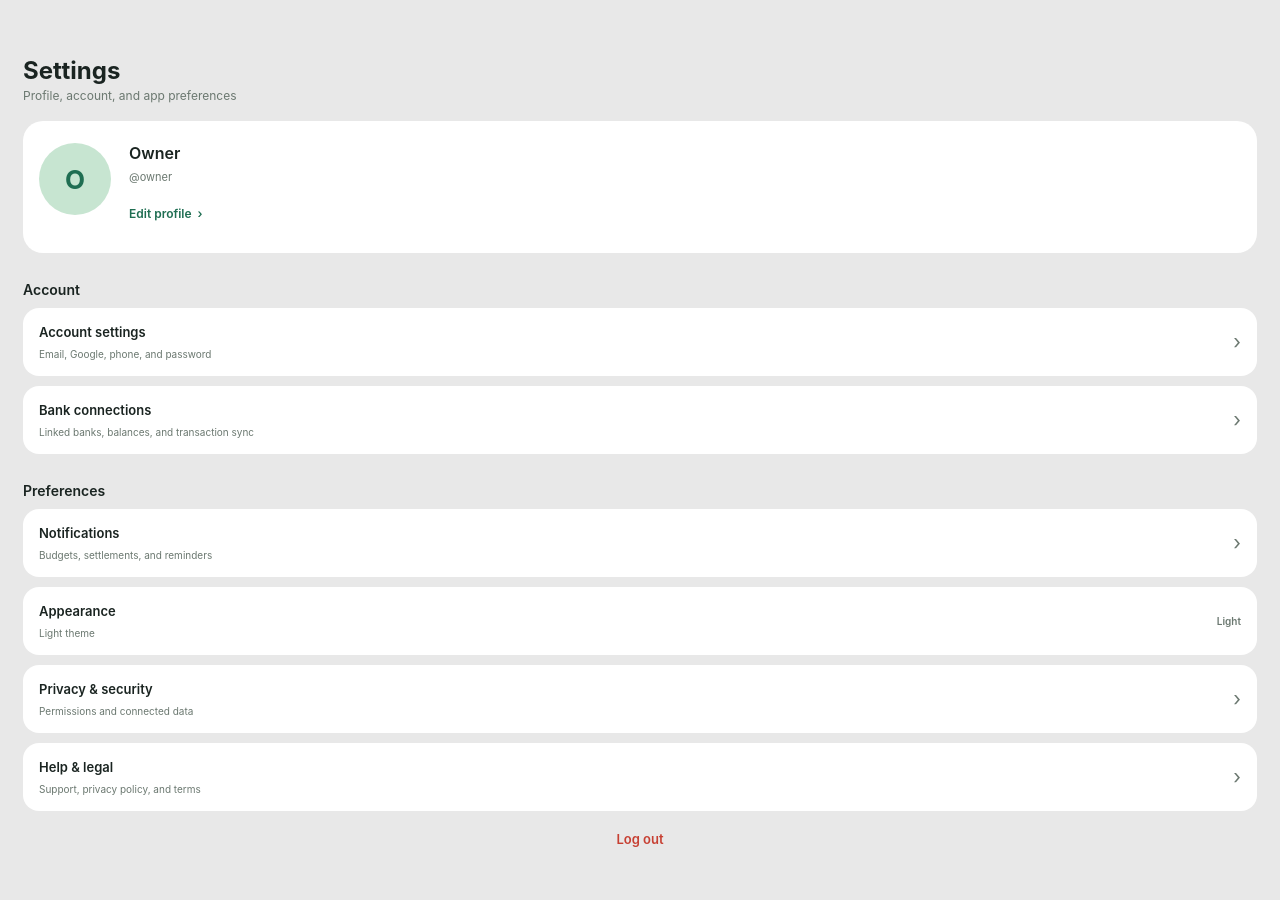
Scenario: Google popup entry points › shows the exact email mismatch returned when profile linking fails
Click the button "Account settings Email, Google, phone, and password ›" at (92,332), box [23,308,1257,376]
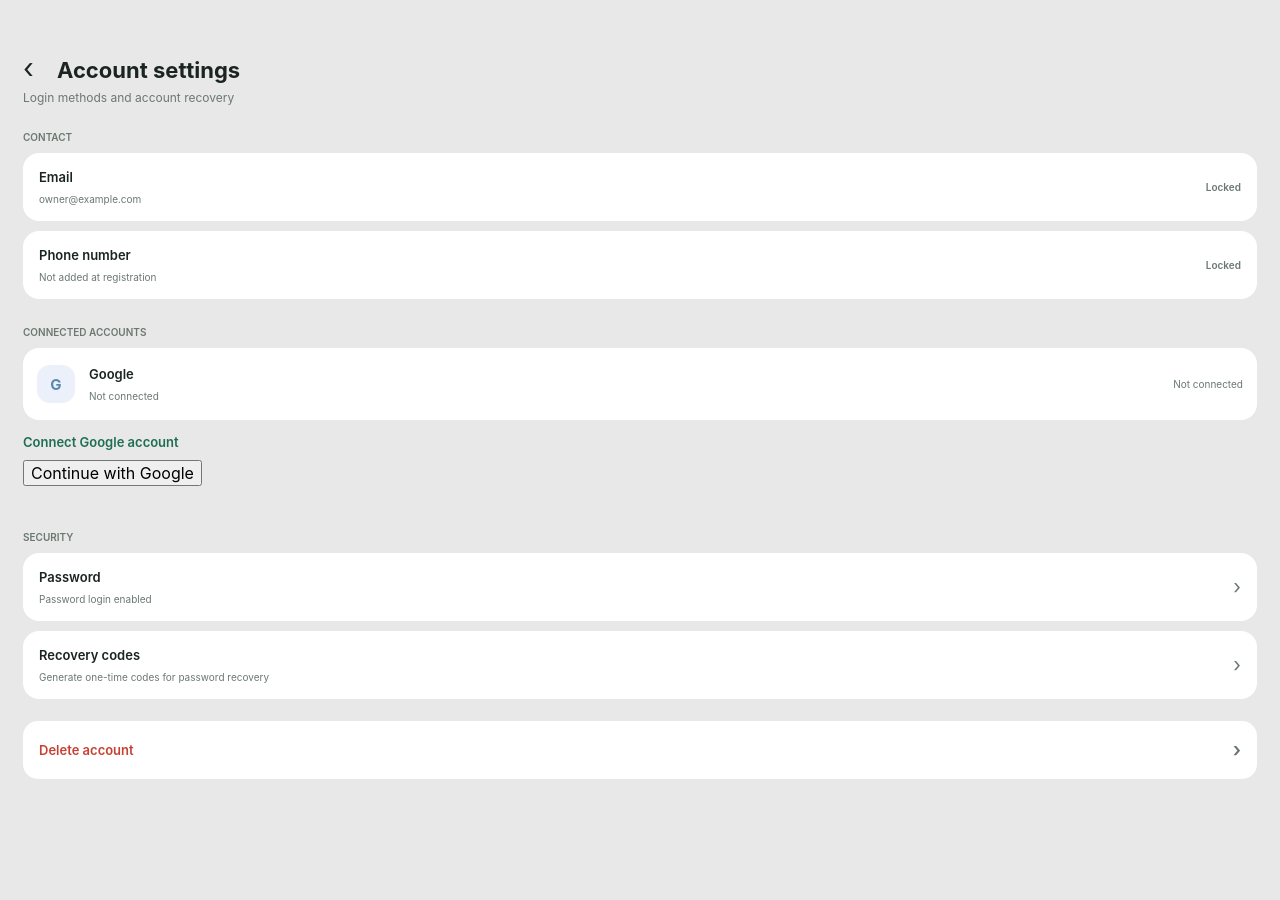
Click the button "Continue with Google" at (112,473), box [23,460,202,486]
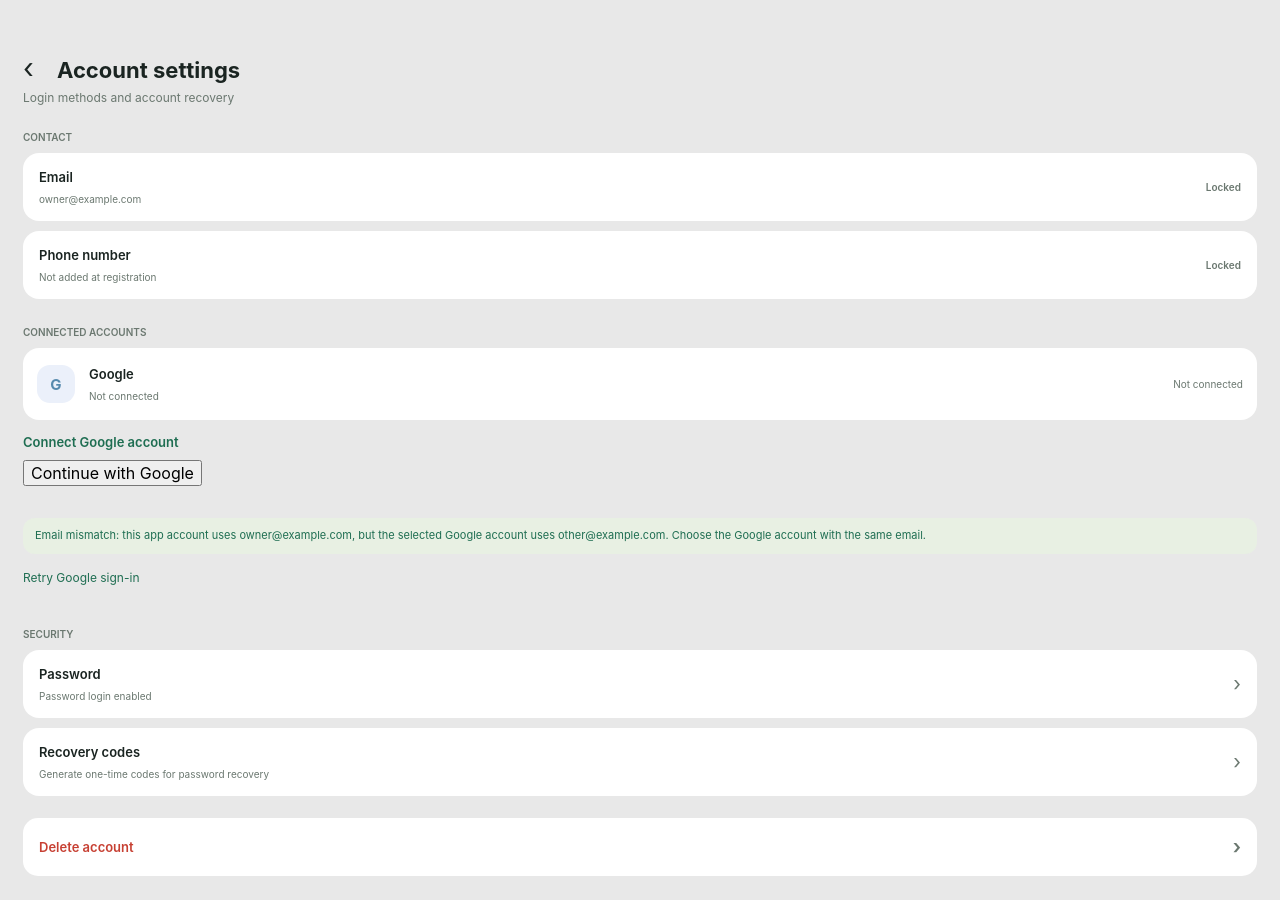
Result: the text "Email mismatch: this app account uses owner@example.com" is shown at [35,528,926,542]
